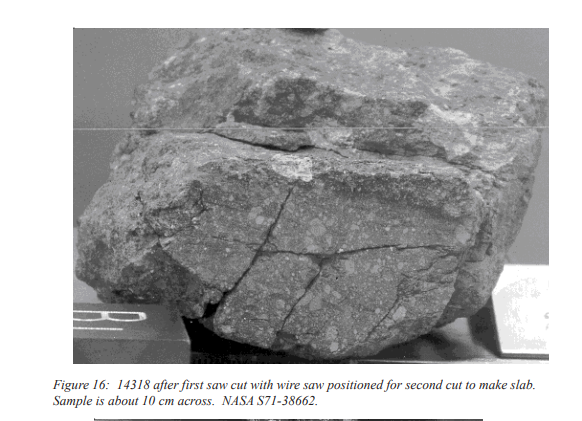Breccia: (105, 40, 498, 338), (198, 177, 430, 336)
